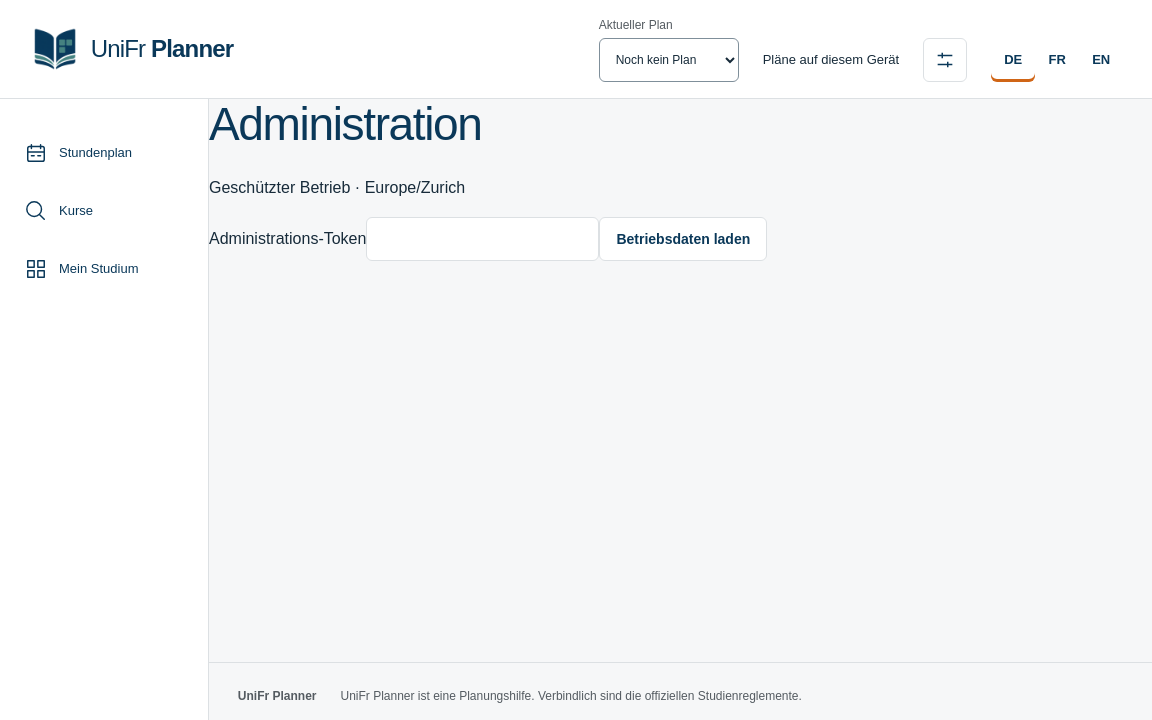
it: operations is localized, requires an explicit token and never stores it
Type "private-operator-token" into the password field labelled "Administrations-Token".
click(483, 239); type("private-operator-token")  # box [366,217,599,261]
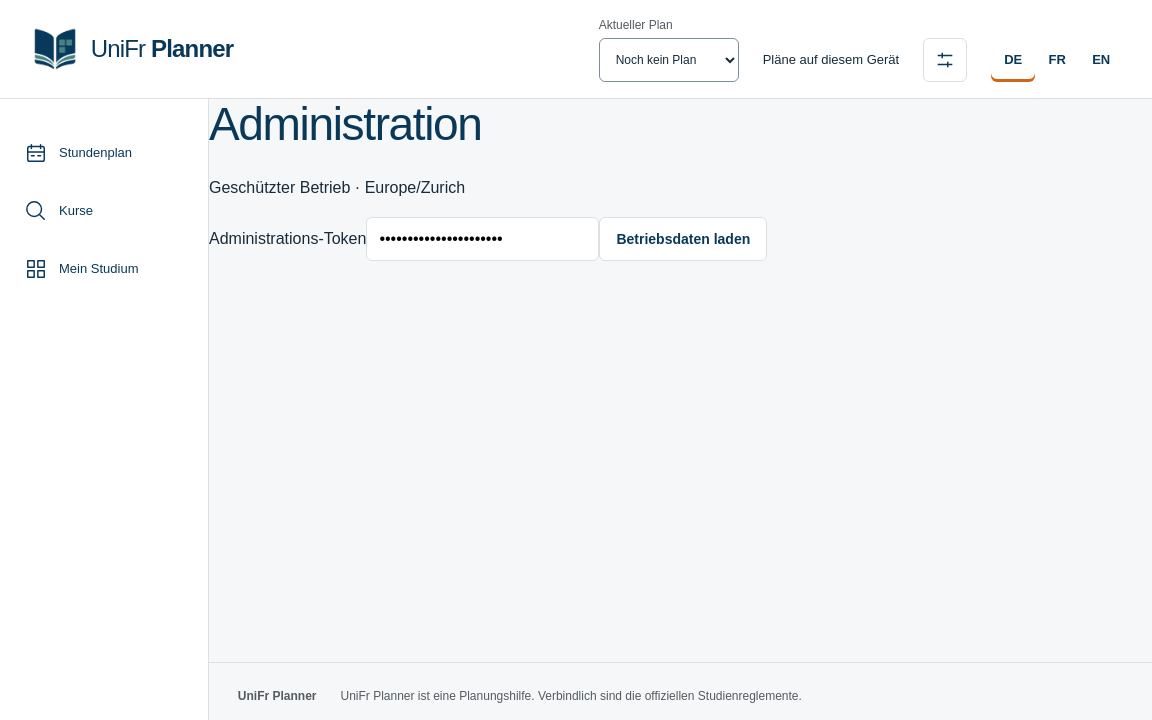
Click the button "Betriebsdaten laden".
click(683, 239)  # box [599,217,767,261]
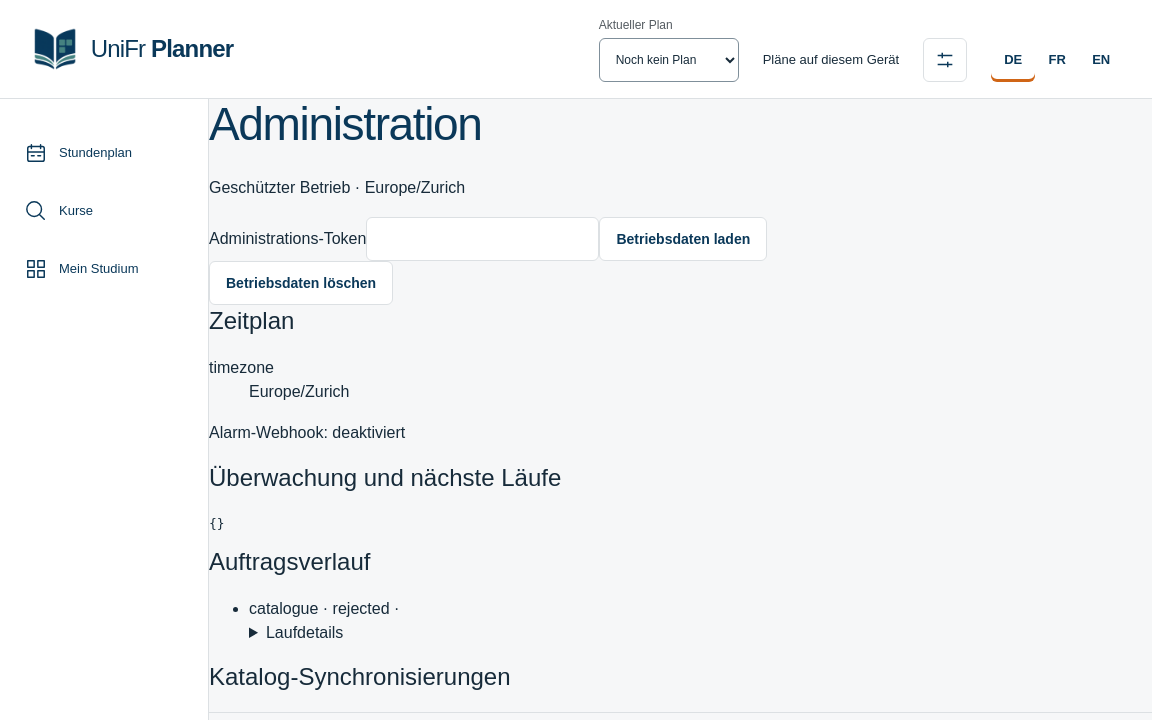
Result: the list item "catalogue · rejected · Laufdetails" is shown at [249,600,399,641]
Result: the password field labelled "Administrations-Token" is empty at [366,217,599,261]
